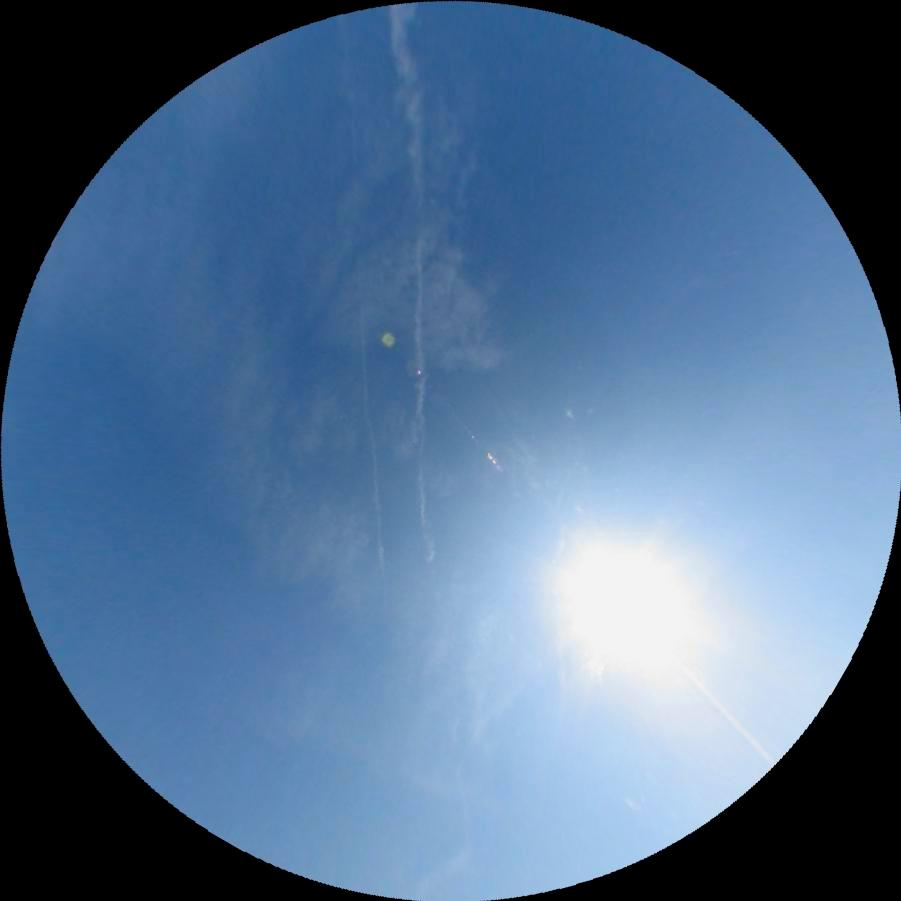contrail old: (351, 271, 384, 566), (548, 594, 565, 709)
contrail veryold: (388, 2, 449, 563)
parasite: (672, 651, 779, 763)
sun: (559, 542, 697, 673)
